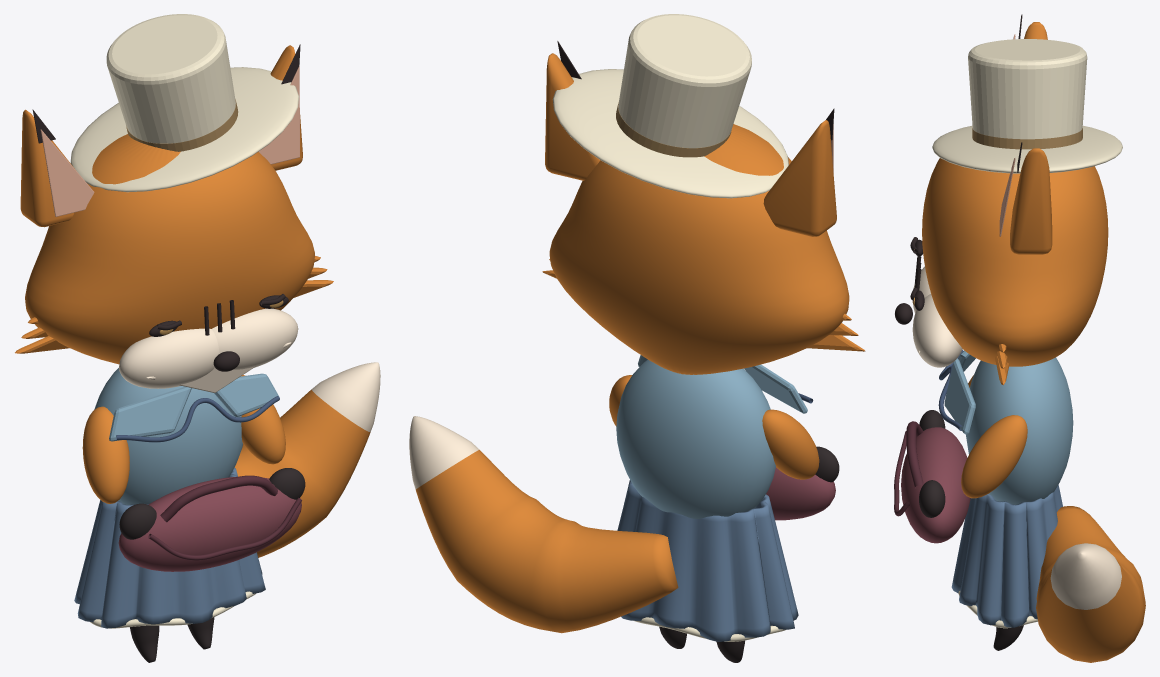
The model's file is fox-normal.glb.
3 views of the same model, side by side, from view 1: azimuth 30°, elevation 25°; view 2: azimuth 150°, elevation 25°; view 3: azimuth 270°, elevation 25° (orthographic). The views are drawn at different scales.
Parts seen in each view (by area): view 1: Fox_Head, Hat_Crown, Ivory_Kimono, Tail, Hat_Brim, Handbag, Shirt, Cream_Muzzle_L, Cream_Muzzle_R, Arm, Ear_L, Sailor_Collar (+15 smaller); view 2: Fox_Head, Tail, Shirt, Ivory_Kimono, Hat_Crown, Hat_Brim, Ear_L, Ear_R, Arm, Handbag, Sailor_Collar, Hat_Ribbon; view 3: Fox_Head, Tail, Hat_Crown, Ivory_Kimono, Shirt, Handbag, Hat_Brim, Ear_R, Arm.001, Cream_Muzzle_R, Sailor_Collar.001, Hat_Ribbon (+6 smaller).
Boxes of the visible parts, x1,y1,x2,y2 form: Fox_Head: (25,134,314,364); Hat_Crown: (106,14,235,143); Ivory_Kimono: (74,467,265,628); Tail: (234,362,380,557); Hat_Brim: (70,67,299,192); Handbag: (118,476,301,571); Shirt: (94,368,242,504); Cream_Muzzle_L: (119,328,219,388); Cream_Muzzle_R: (212,308,298,369); Arm: (82,406,129,503); Ear_L: (20,109,74,227); Sailor_Collar: (109,386,191,441); Fox_Head: (549,124,849,374); Tail: (409,416,678,633); Shirt: (616,359,775,518); Ivory_Kimono: (617,480,798,641); Hat_Crown: (618,14,751,148); Hat_Brim: (552,69,788,198); Ear_L: (763,120,836,236); Ear_R: (545,53,600,180); Arm: (762,409,819,479); Handbag: (766,467,835,520); Sailor_Collar: (744,364,807,413); Hat_Ribbon: (616,103,731,157); Fox_Head: (922,158,1108,366); Tail: (1036,506,1145,662); Hat_Crown: (968,39,1087,139); Ivory_Kimono: (951,485,1062,627); Shirt: (966,357,1073,504); Handbag: (901,427,970,543); Hat_Brim: (932,125,1122,173); Ear_R: (1010,148,1052,254); Arm.001: (961,415,1027,498); Cream_Muzzle_R: (912,294,962,367); Sailor_Collar.001: (944,358,975,434); Hat_Ribbon: (972,128,1082,149).
Bounding box in the file's own units: 1.09 × 1.59 × 0.6065.
